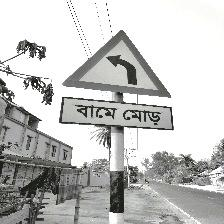Left-Turn: (59, 30, 174, 131)
